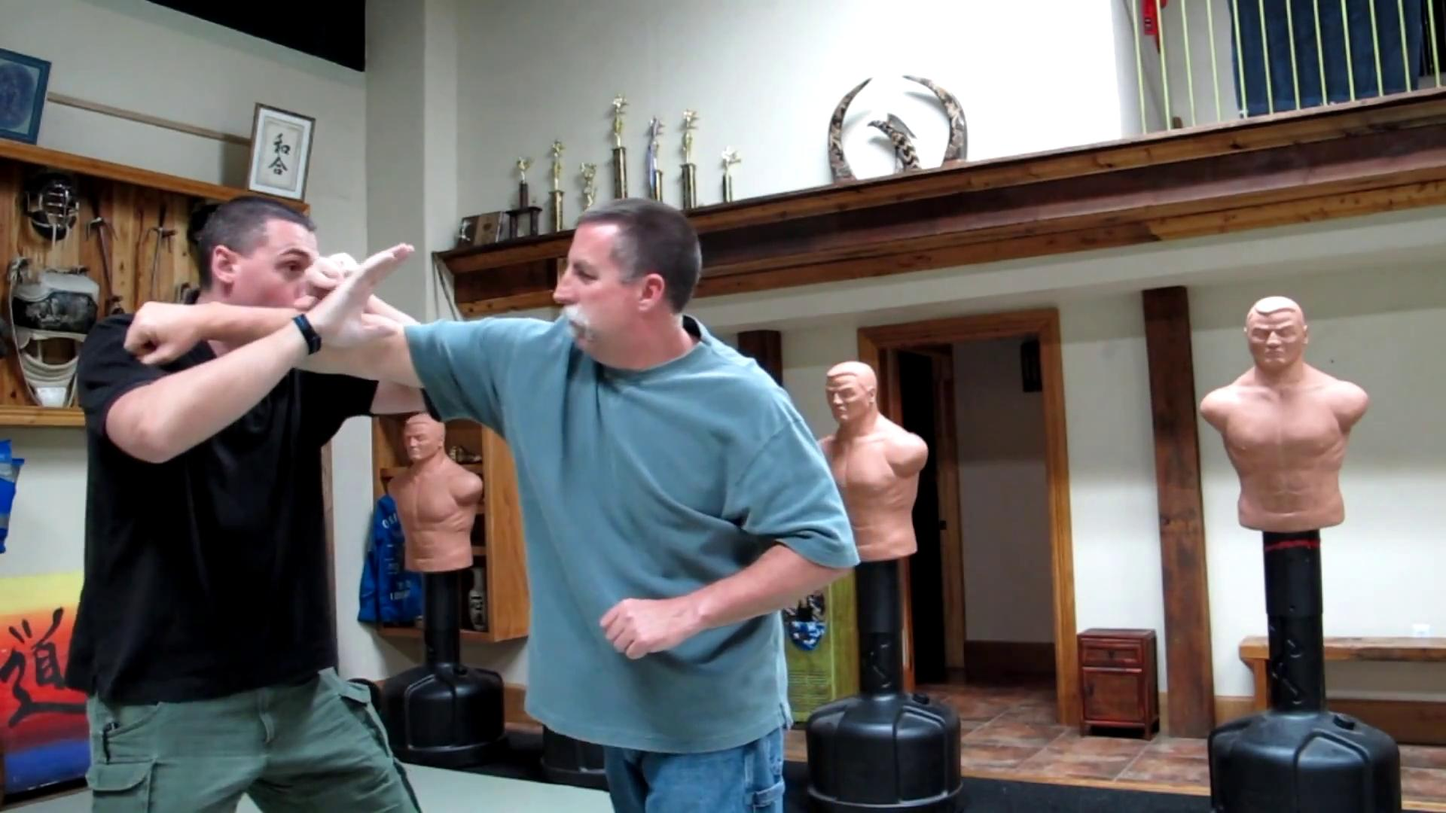victim: (406, 204, 866, 812), (72, 195, 458, 812)
